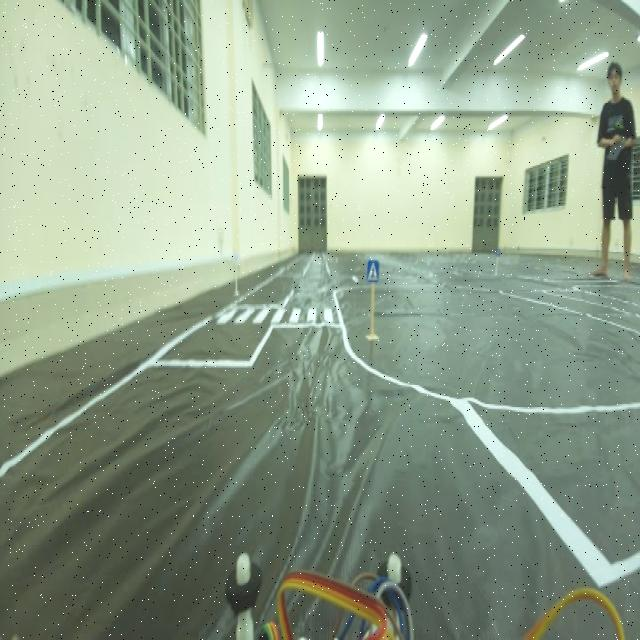crosswalk: (363, 250, 383, 287)
